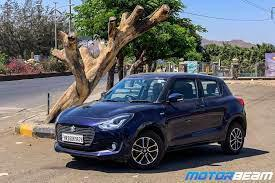Hatchback: (52, 70, 249, 168)
